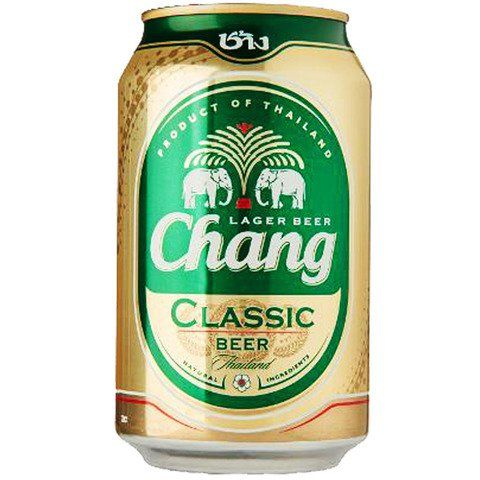beer can: (117, 4, 369, 475)
